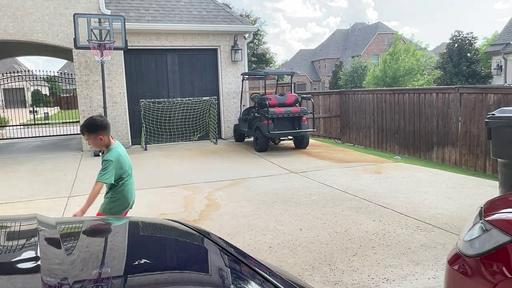human: (73, 114, 136, 218)
rim: (86, 39, 116, 63)
